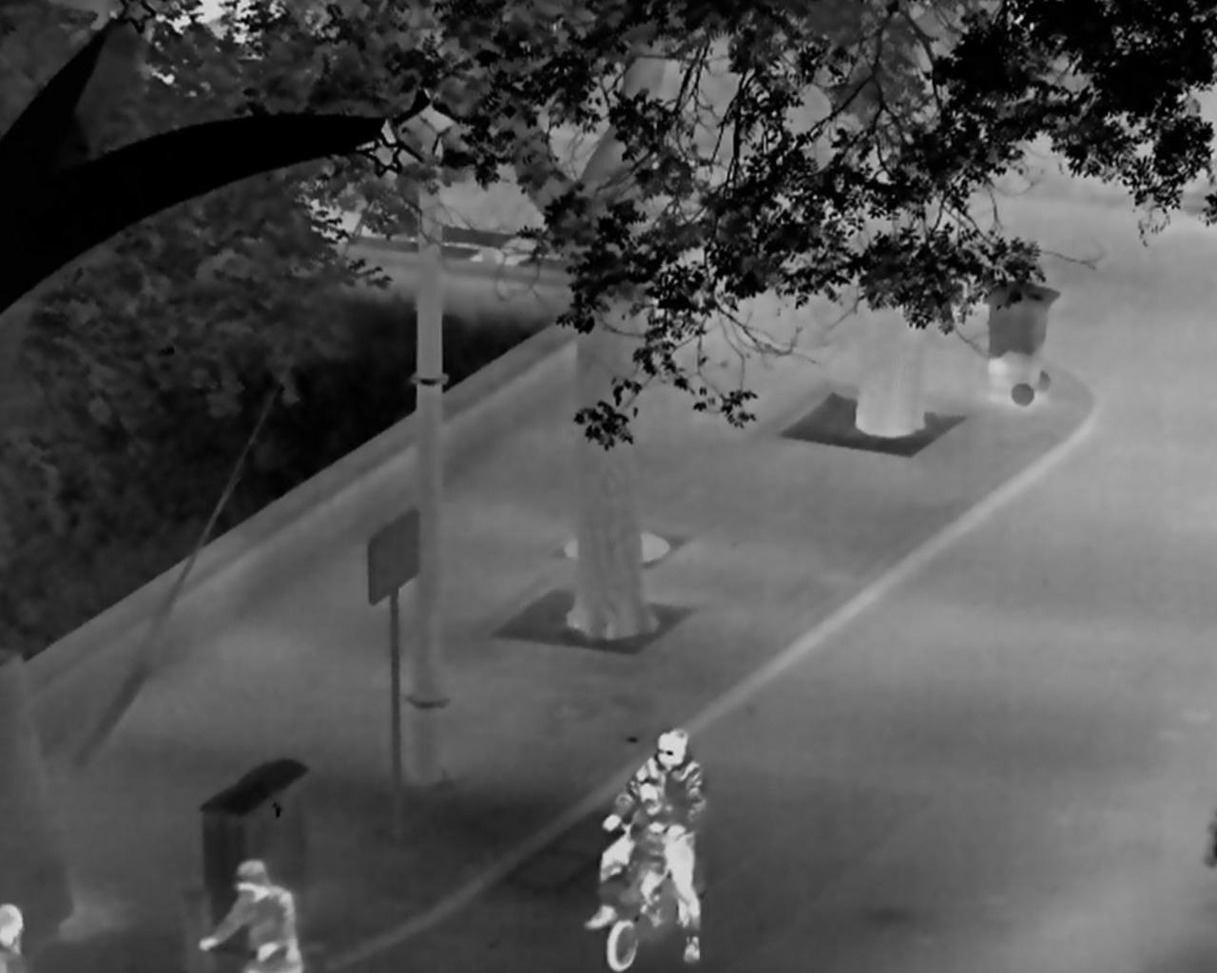person: (586, 728, 708, 963), (197, 859, 304, 973), (621, 777, 675, 928)
